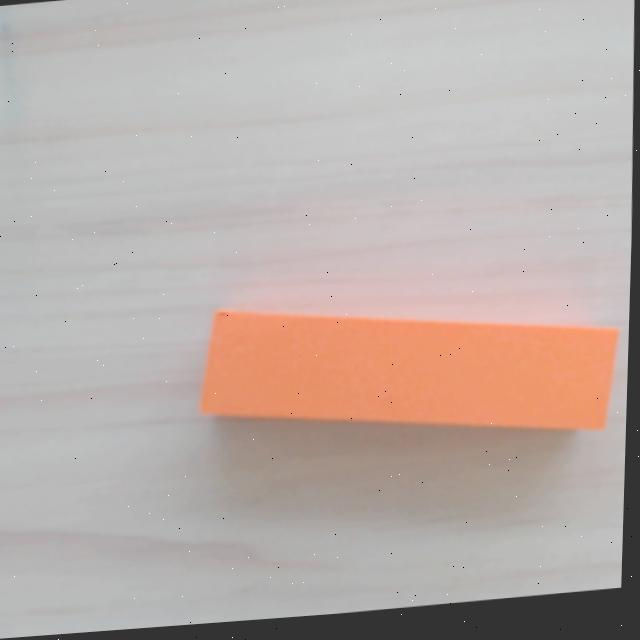Balok-Jingga-1002525: (200, 310, 618, 432)
